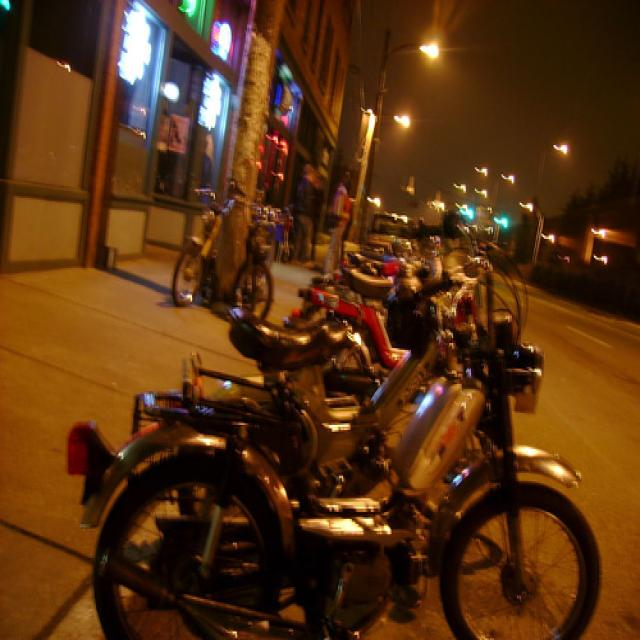Motorbike: (86, 319, 621, 640), (295, 246, 508, 438), (181, 180, 279, 314)
